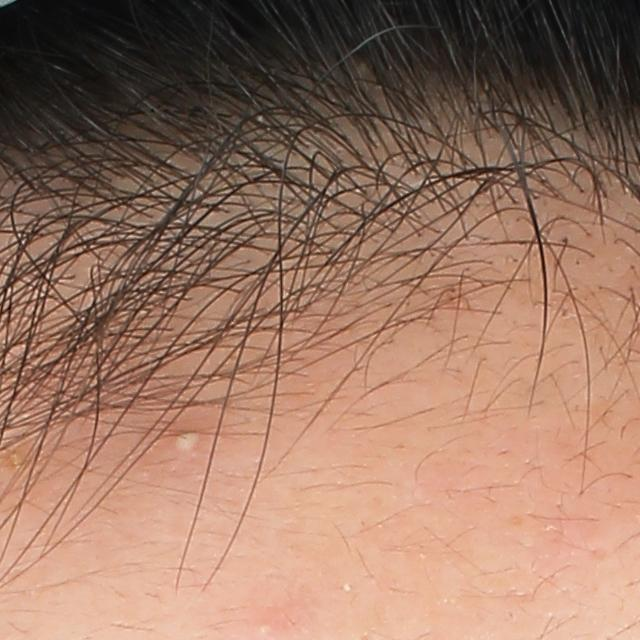pustule: (168, 424, 203, 453)
